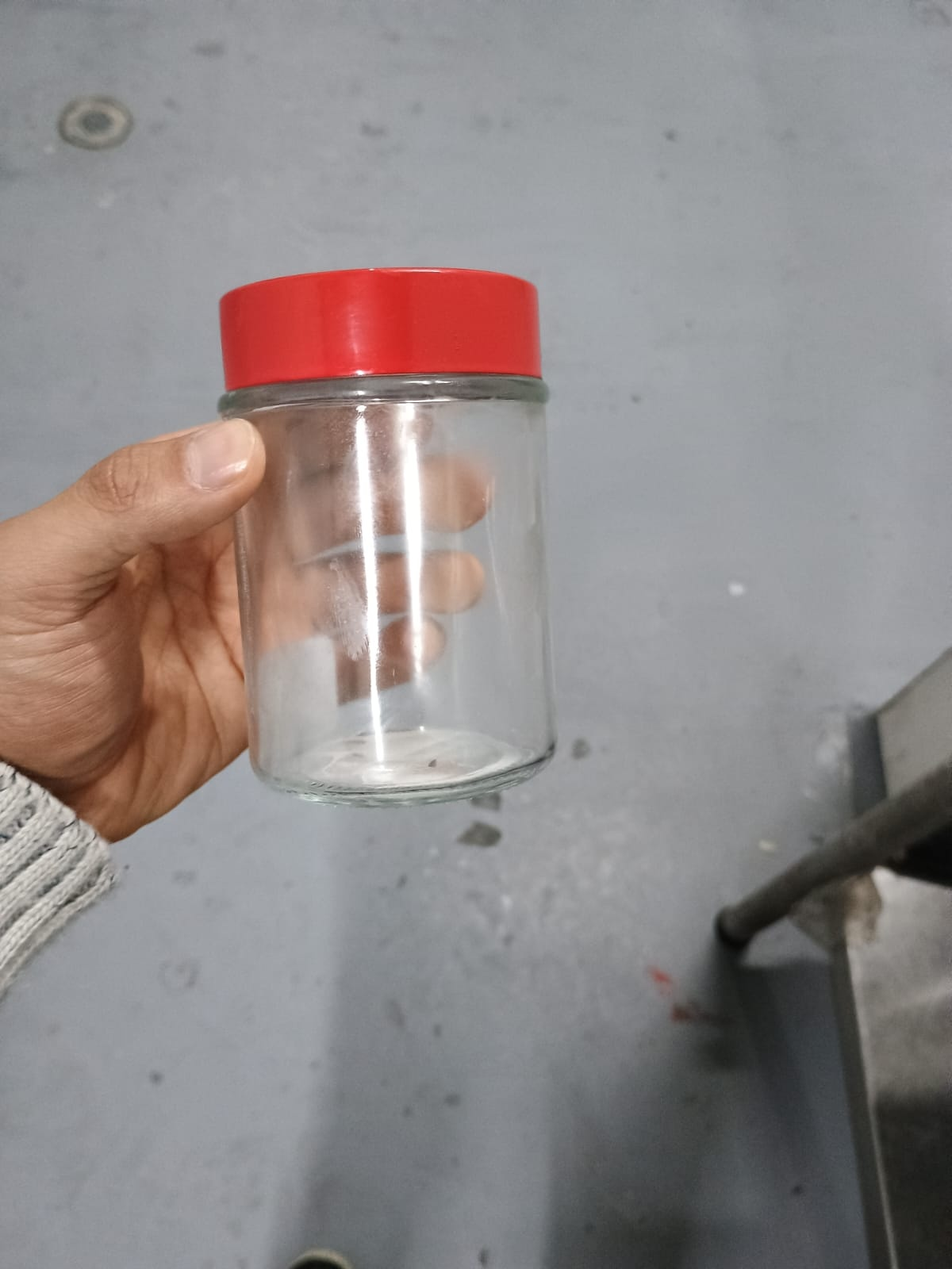Plastico: (216, 264, 538, 370)
Vidrio: (212, 381, 559, 809)
